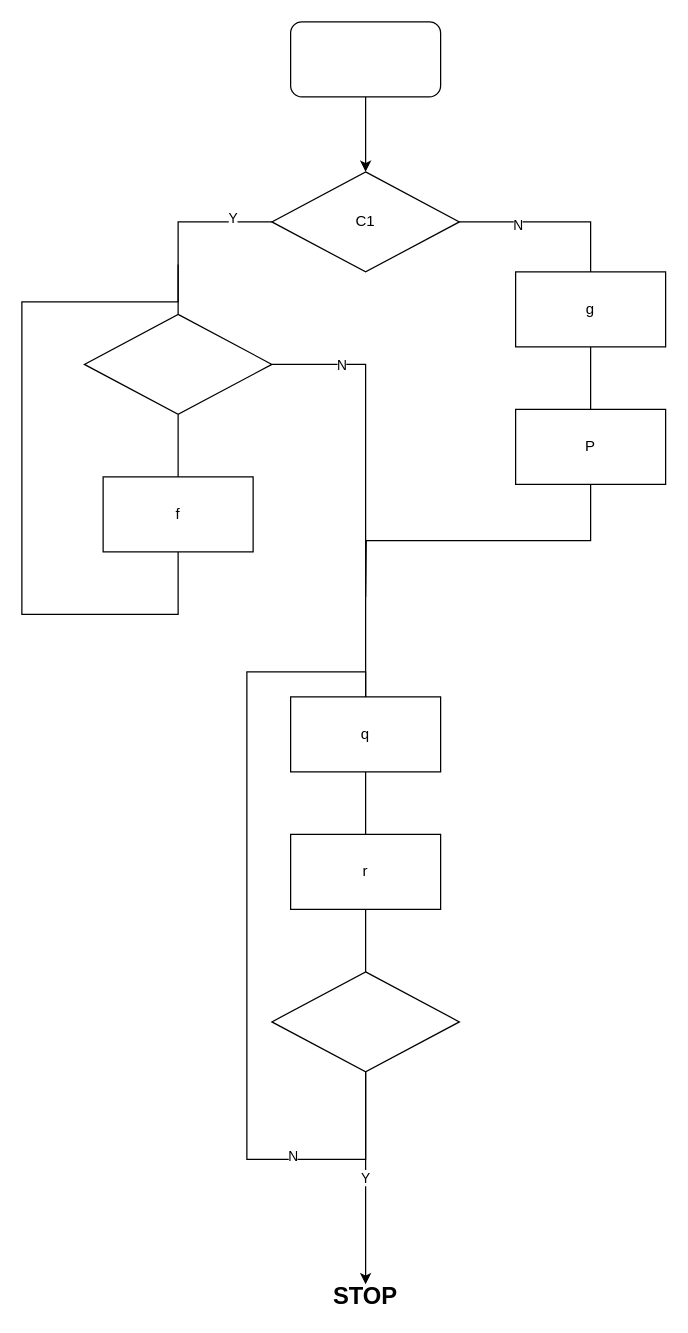
The diagram is 688 pixels wide and 1333 high, and some of its shapes have lost their labels. The shapes that lost their labels are listed below. From the top down, each one's centre as x and y in pixels, then its label:
At (x=365, y=59): "START".
At (x=177, y=363): "C2".
At (x=365, y=1021): "C3".
